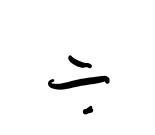div: (47, 54, 110, 115)
